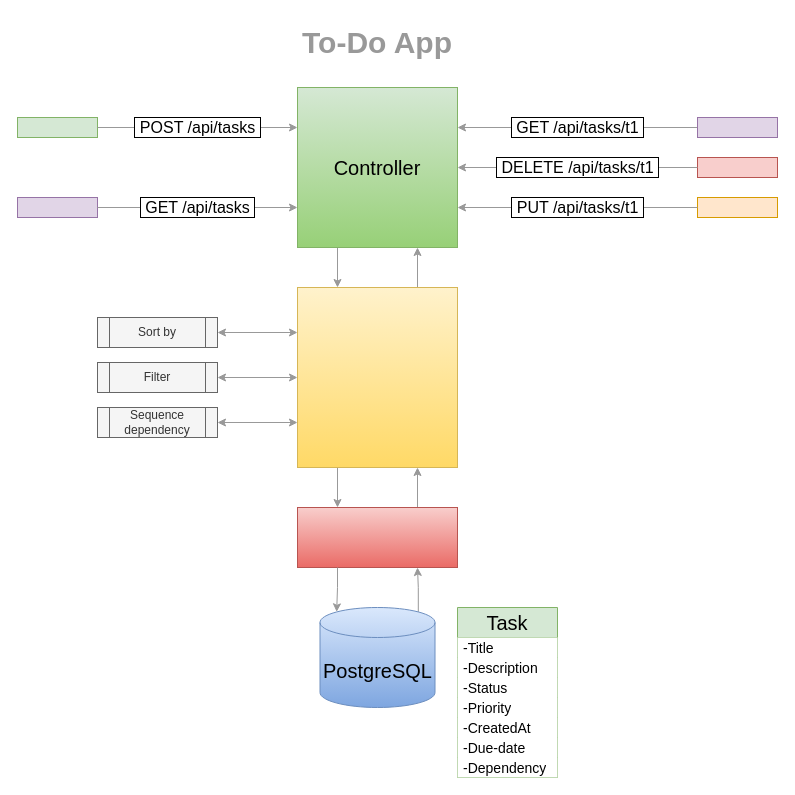
This 795x795 diagram has some shape labels left out. Each missing label, with the centre of its shape:
Consult: point 737,127
Consult ALL: point 57,207
Create: point 57,127
Delete: point 737,167
Model: point 377,537
Service: point 377,377
Update: point 737,207
